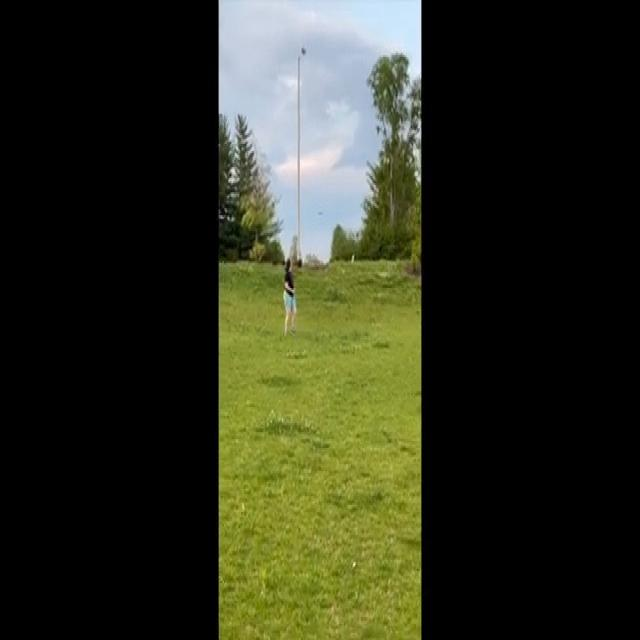drone: (316, 204, 326, 223)
